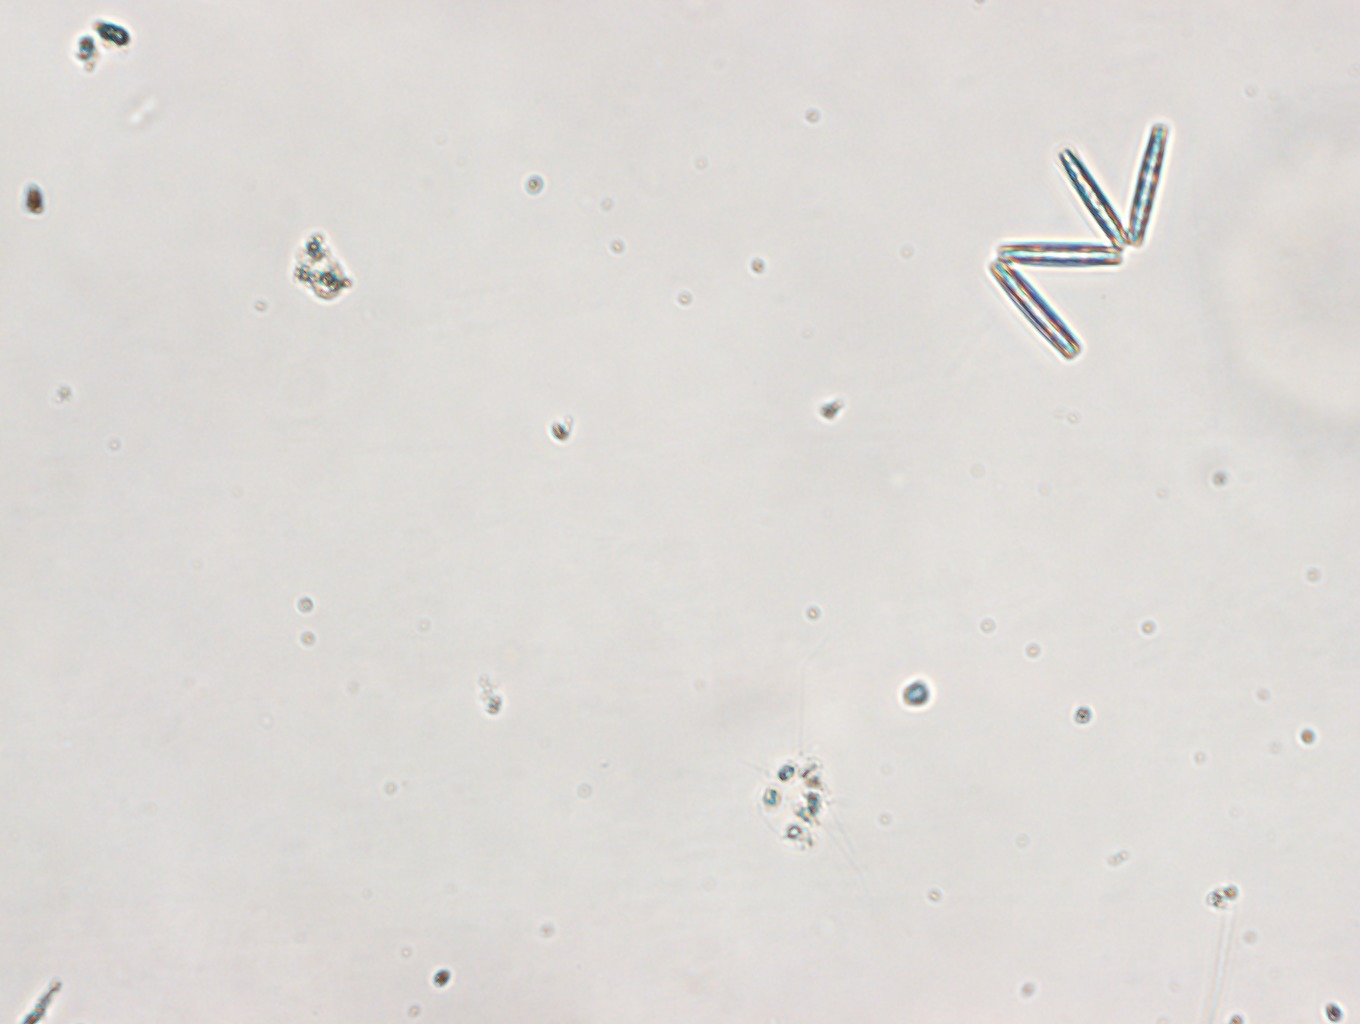thalassionema nitzschioides: (985, 117, 1170, 360)
